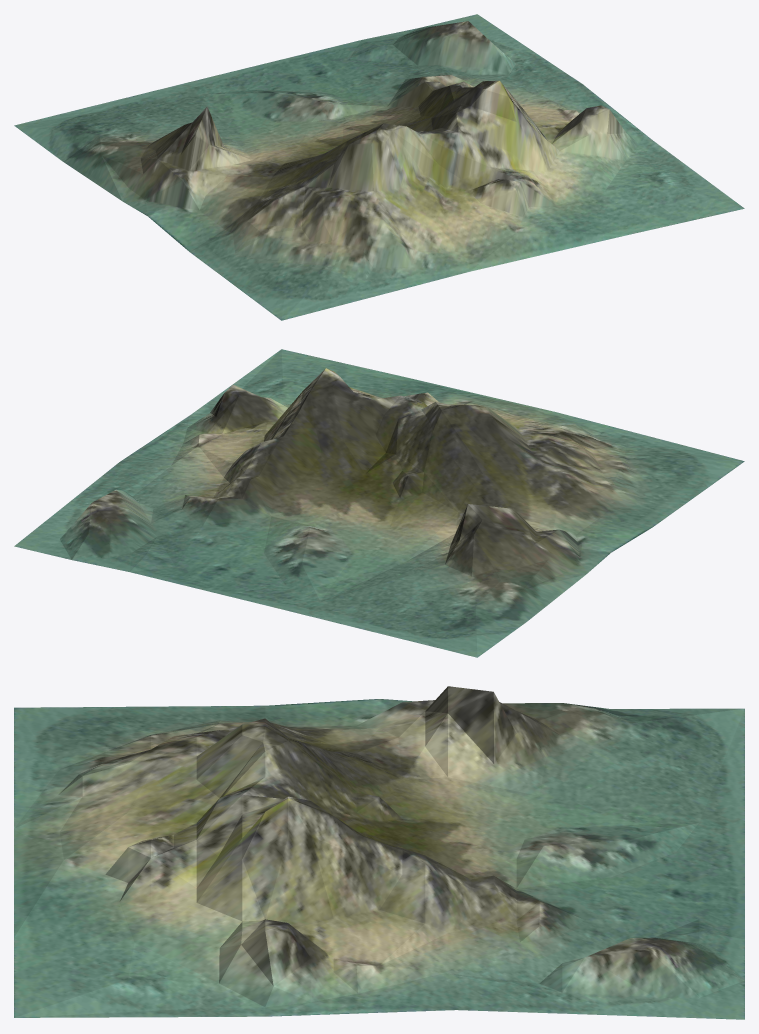
File: F_Island_01_A.fbx
3 views of the same model, one above another, from view 1: azimuth 30°, elevation 25°; view 2: azimuth 150°, elevation 25°; view 3: azimuth 270°, elevation 25° (orthographic). The views are drawn at different scales.
Visible parts, largest first — view 1: F_Island_01_A; view 2: F_Island_01_A; view 3: F_Island_01_A.
Boxes of the visible parts, bbox=[...] form: F_Island_01_A: bbox=[14, 14, 744, 320]; F_Island_01_A: bbox=[14, 349, 744, 657]; F_Island_01_A: bbox=[14, 686, 744, 1019].
Bounding box in the file's own units: 2 × 0.3763 × 2.
Materials: 1 (1 with a texture image).
